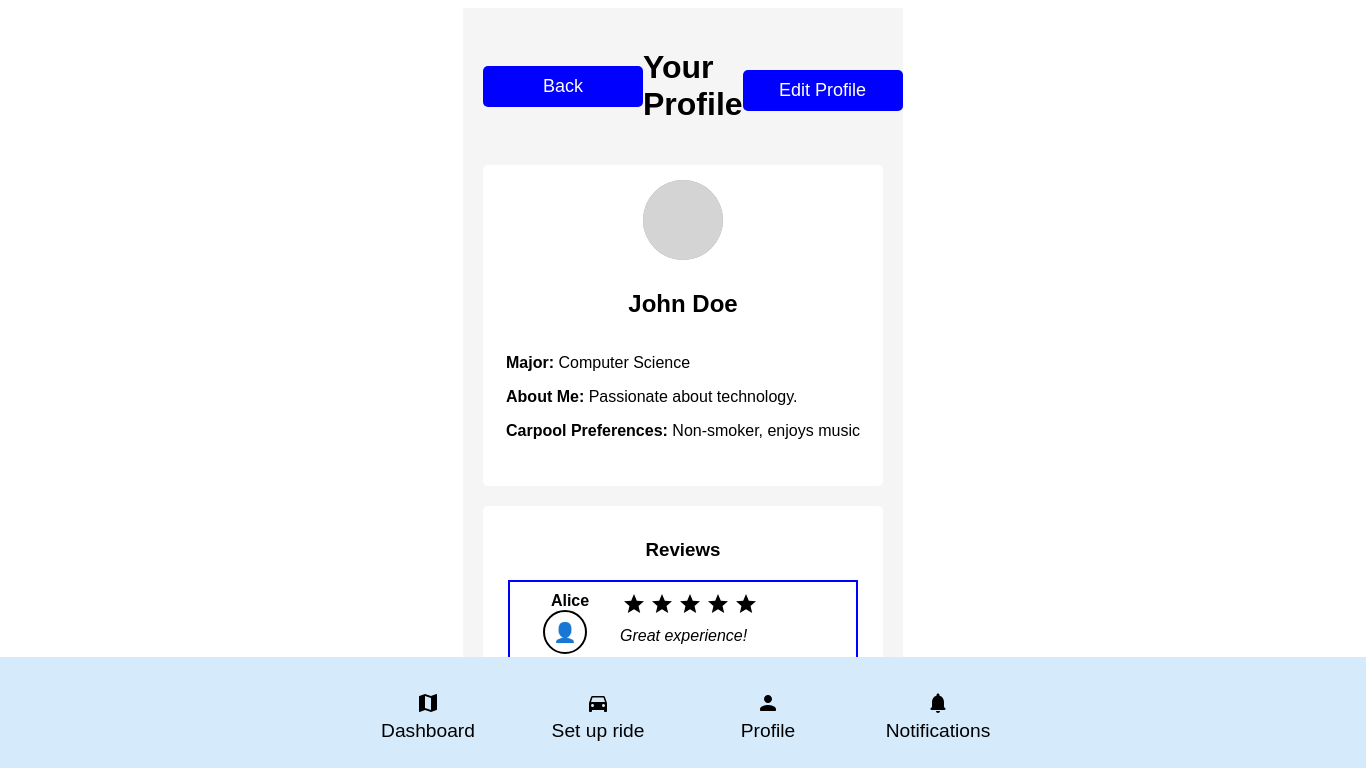
Test: ProfilePage Component Tests › should remove text input fields when edit profile is clicked twice
What coordinates should you click on to do the following:
click the button "Edit Profile"
I would click on:
 (823, 90)
Its box is [743,70,903,111].
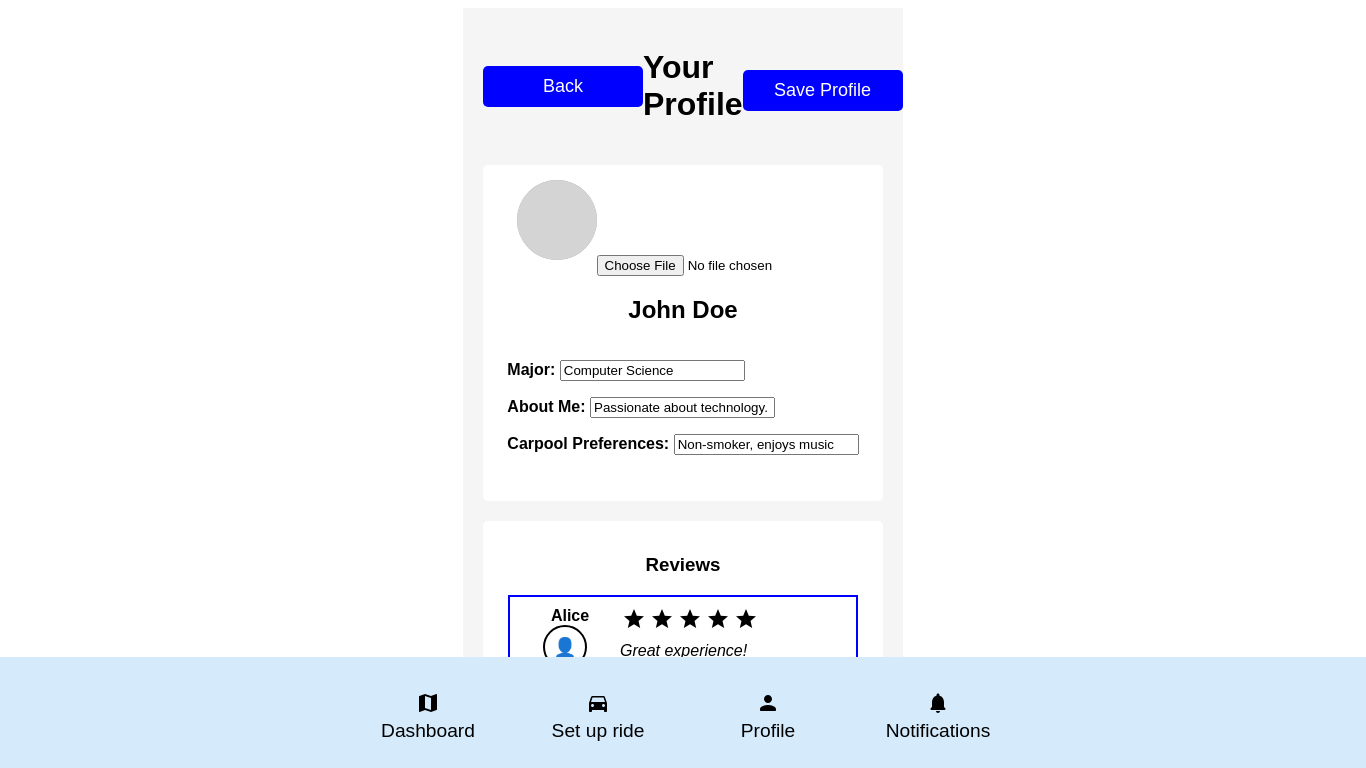
What coordinates should you click on to do the following:
click the button "Edit Profile"
I would click on:
 (823, 90)
Its box is [743,70,903,111].
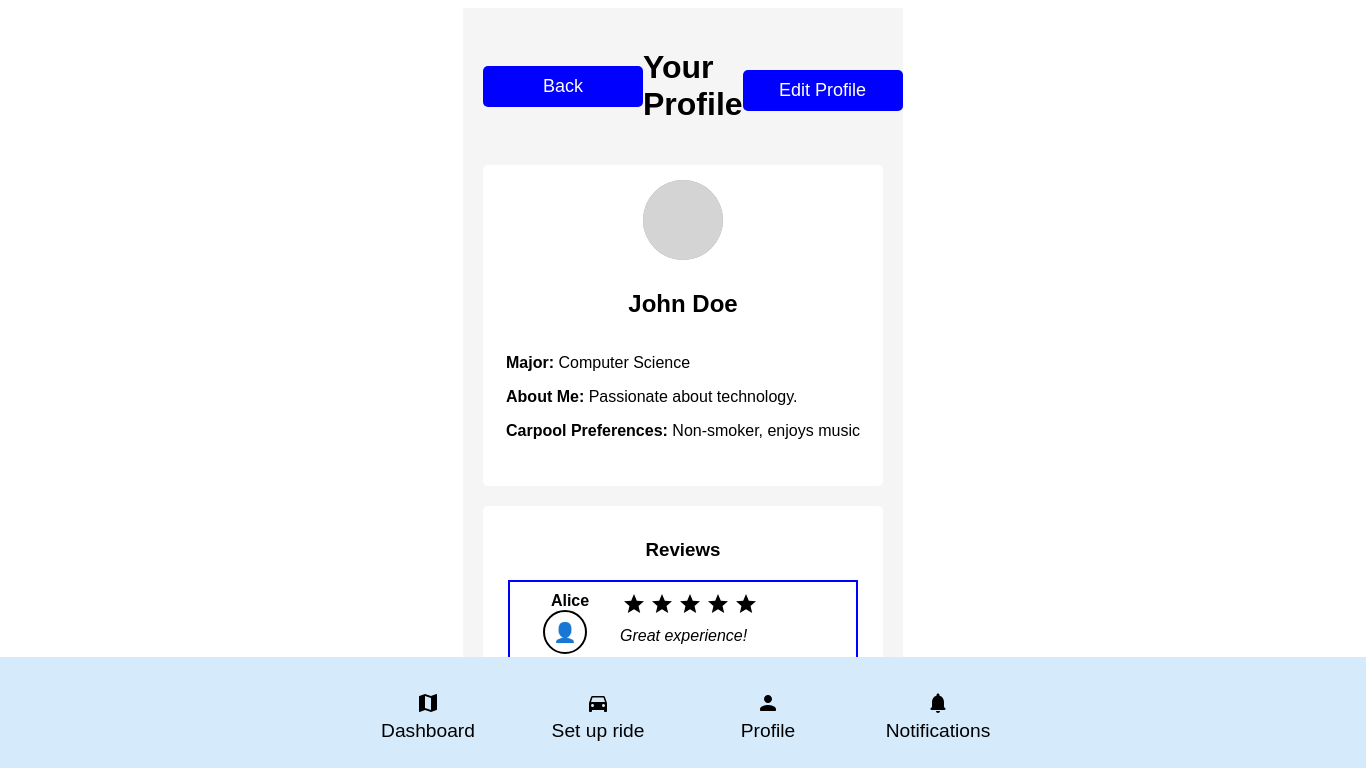
Check: no fields are shown
